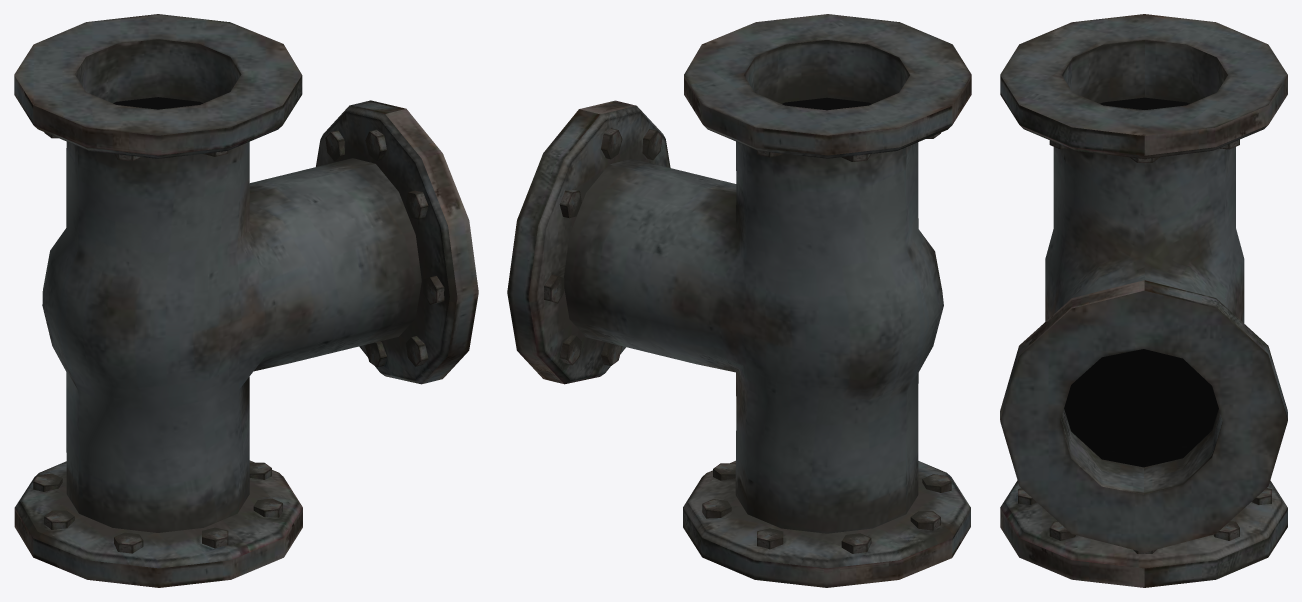
The model's file is pipe06.gltf.
3 views of the same model, side by side, from view 1: azimuth 30°, elevation 25°; view 2: azimuth 150°, elevation 25°; view 3: azimuth 270°, elevation 25° (orthographic).
Visible parts, largest first — view 1: pipe06; view 2: pipe06; view 3: pipe06.
Part boxes in pixels (left/top/right/bottom): pipe06: left=14, top=14, right=478, bottom=587; pipe06: left=507, top=14, right=971, bottom=587; pipe06: left=1000, top=14, right=1287, bottom=587.
Size of the model in its own units: 0.3087 by 0.3576 by 0.2064.
Materials: 1 (1 with a texture image).
